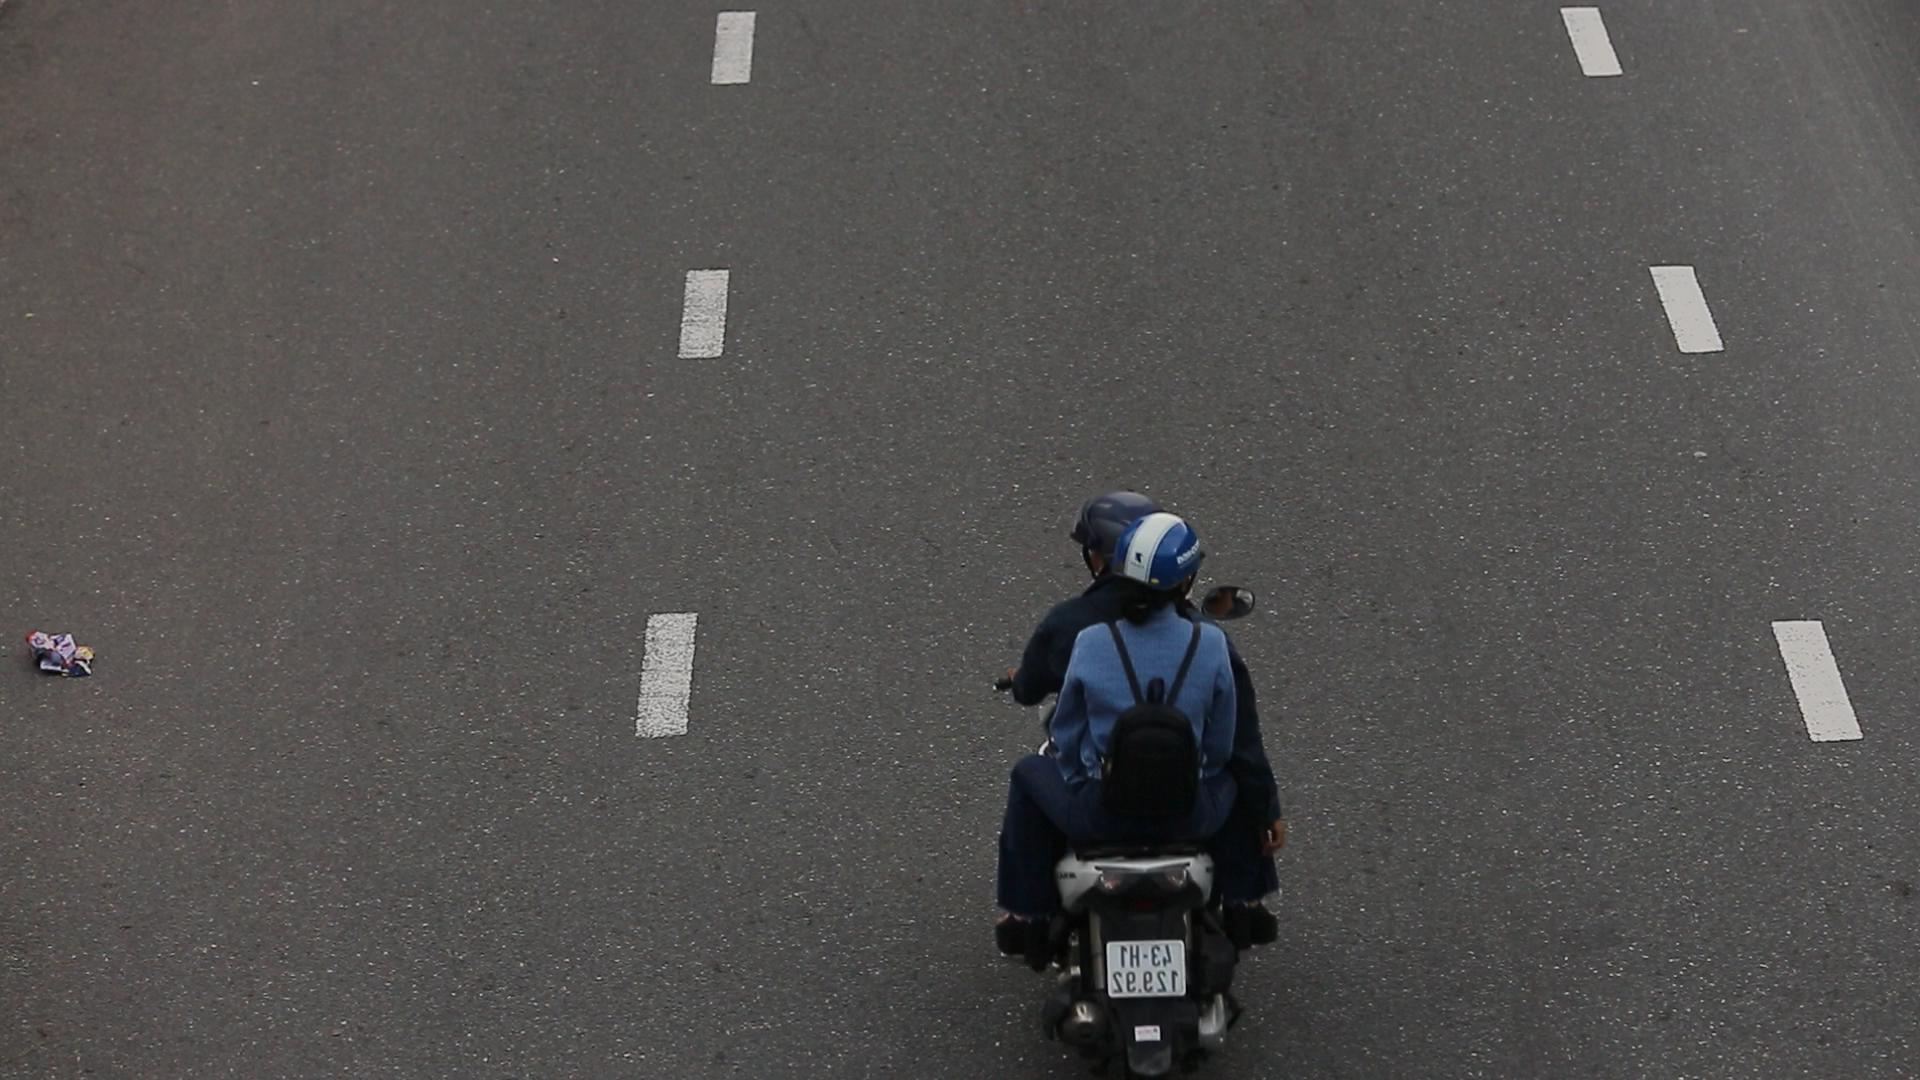motobike: (951, 472, 1294, 1080)
